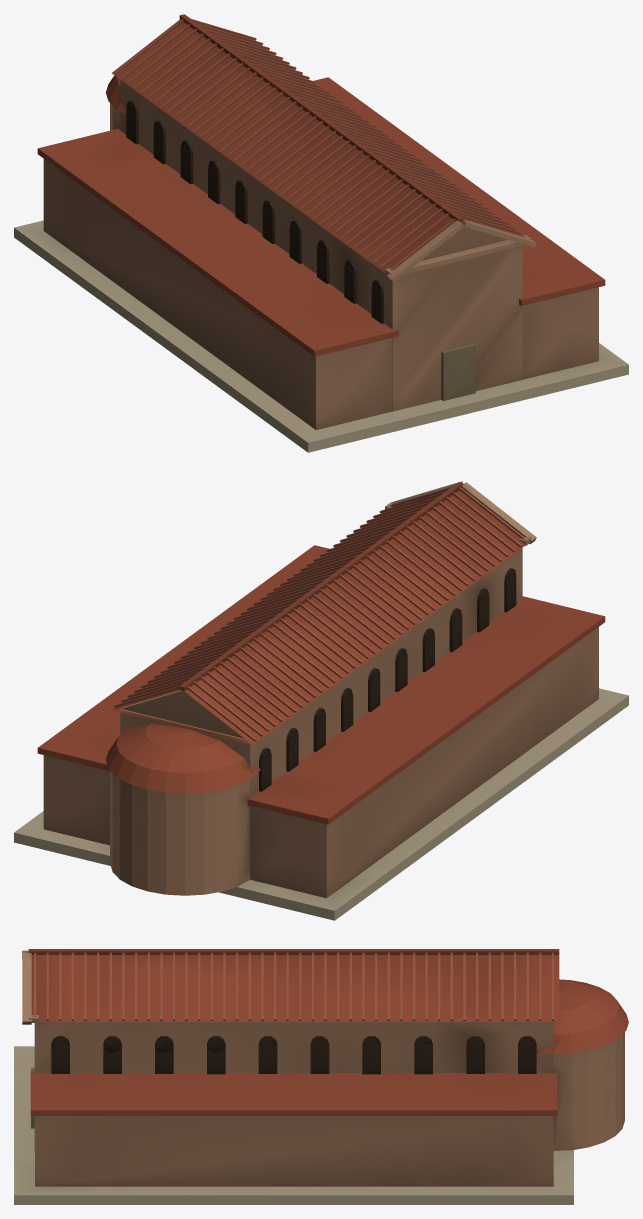
File: santa-maria-in-trastevere-early.glb
3 renders of one model, top to bottom at view 1: azimuth 30°, elevation 25°; view 2: azimuth 150°, elevation 25°; view 3: azimuth 270°, elevation 25°, orthographic. The views are drawn at different scales.
Visible parts, largest first — view 1: p2_roofs, p1_nave, p0_base; view 2: p2_roofs, p1_nave, p0_base; view 3: p1_nave, p2_roofs, p0_base.
Part boxes in pixels (x1,y1,x2,y2): p2_roofs: (37, 14, 605, 356); p1_nave: (43, 80, 598, 429); p0_base: (14, 220, 628, 452); p2_roofs: (37, 481, 605, 824); p1_nave: (43, 548, 598, 898); p0_base: (14, 688, 628, 920); p1_nave: (31, 1022, 624, 1186); p2_roofs: (22, 949, 628, 1115); p0_base: (14, 1046, 573, 1204).
Bounding box in the file's own units: 34 × 19.16 × 59.3.
